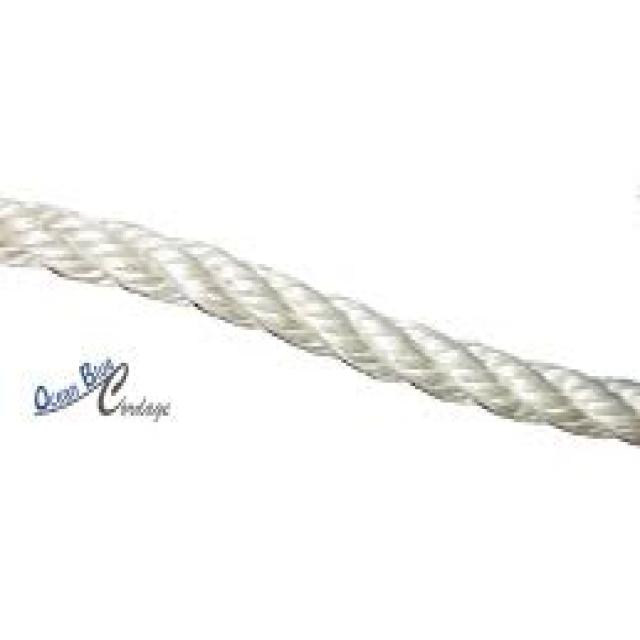rope: (0, 198, 640, 449)
